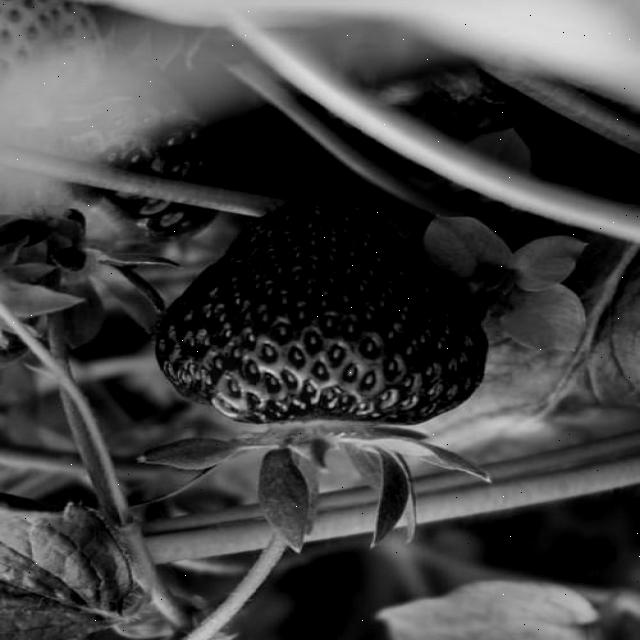ripe: (155, 195, 488, 426)
